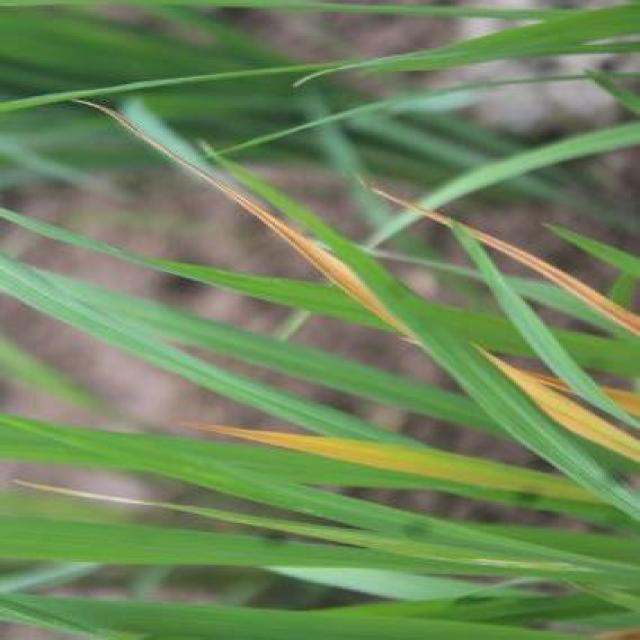Rice Tungro: (198, 416, 410, 477), (333, 164, 487, 246), (524, 377, 623, 441)
